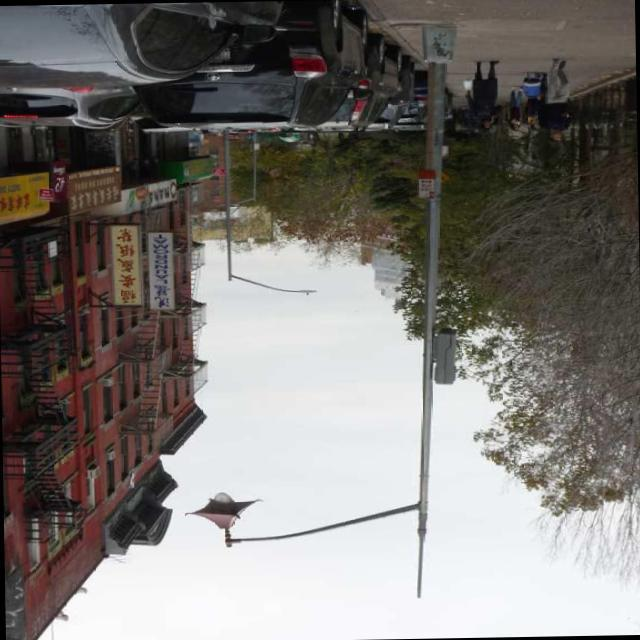off: (182, 463, 476, 580)
